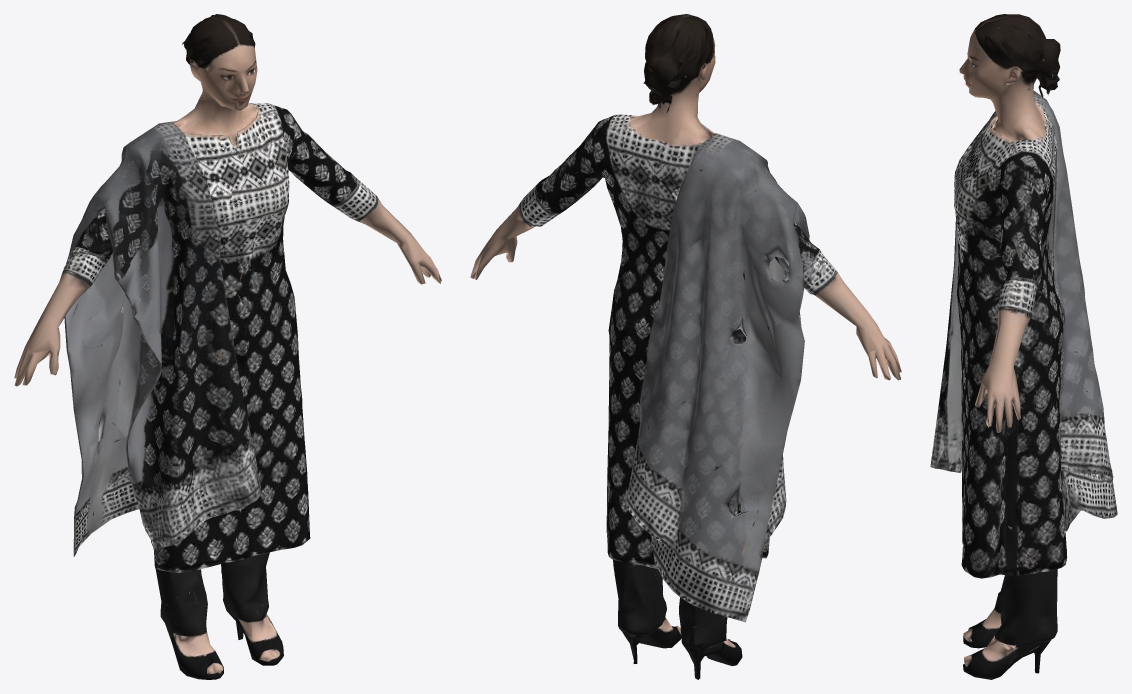
Rendered from shalwar-kameez.glb.
The picture shows the model from 3 angles, left to right: view 1: azimuth 30°, elevation 25°; view 2: azimuth 150°, elevation 25°; view 3: azimuth 270°, elevation 25°; orthographic projection.
Size of the model in its own units: 1.33 by 1.9 by 0.5029.
Materials: 1 (1 with a texture image).
